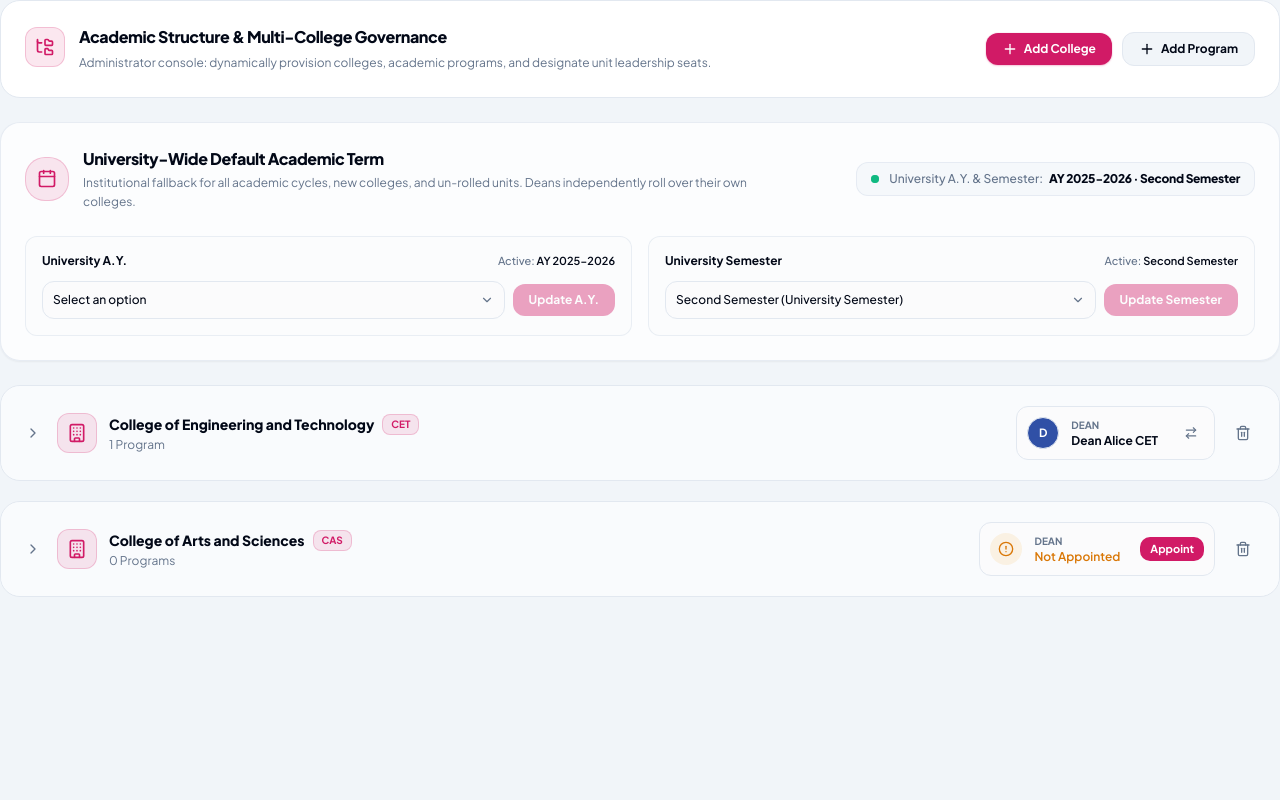
Test: AcademicStructureTab - Dean School Year Management › Available Years only renders on the college card the viewer leads as Dean
The width and height of the screenshot is (1280, 800).
Click the button with aria-label "Toggle programs for College of Engineering and Technology" at [77, 433], box top-left (1, 386), bottom-right (1279, 480)
(page scrolled)
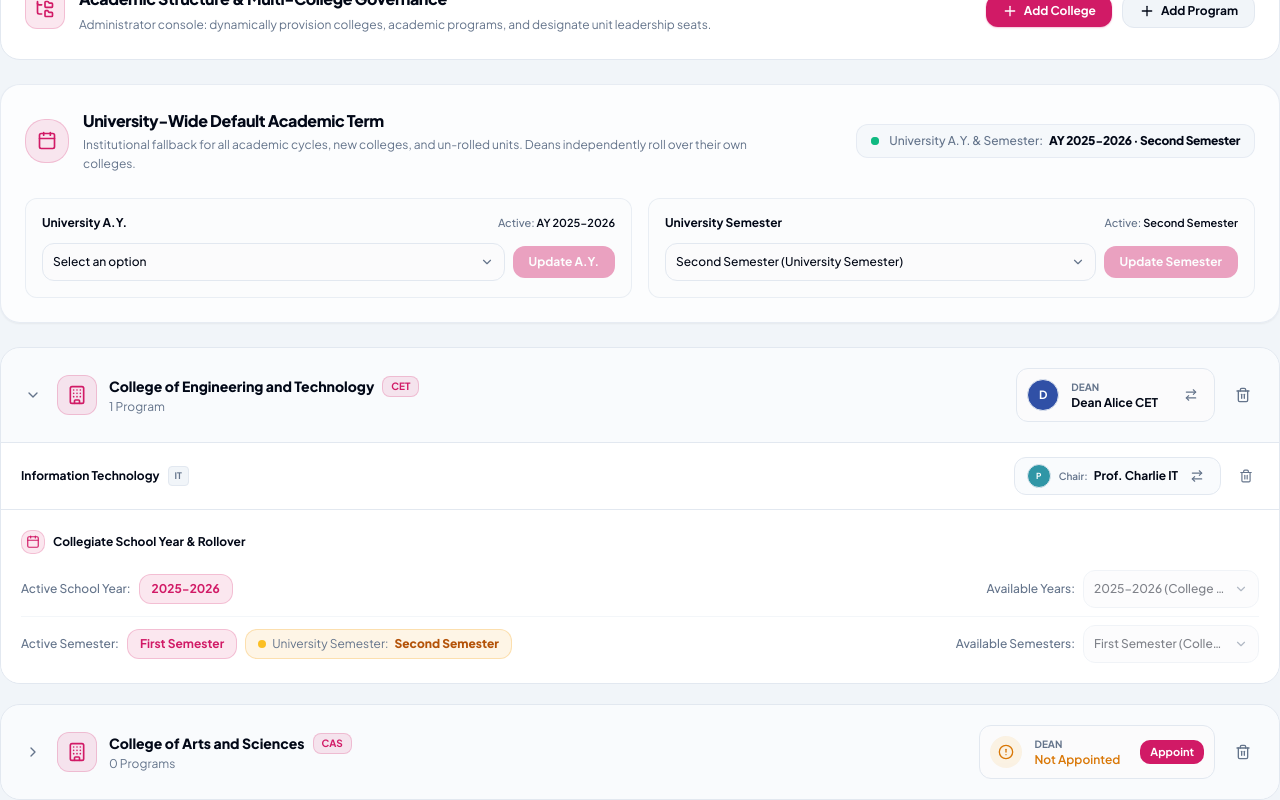
Click the button with aria-label "Toggle programs for College of Arts and Sciences" at [77, 752], box top-left (1, 705), bottom-right (1279, 799)
(page scrolled)
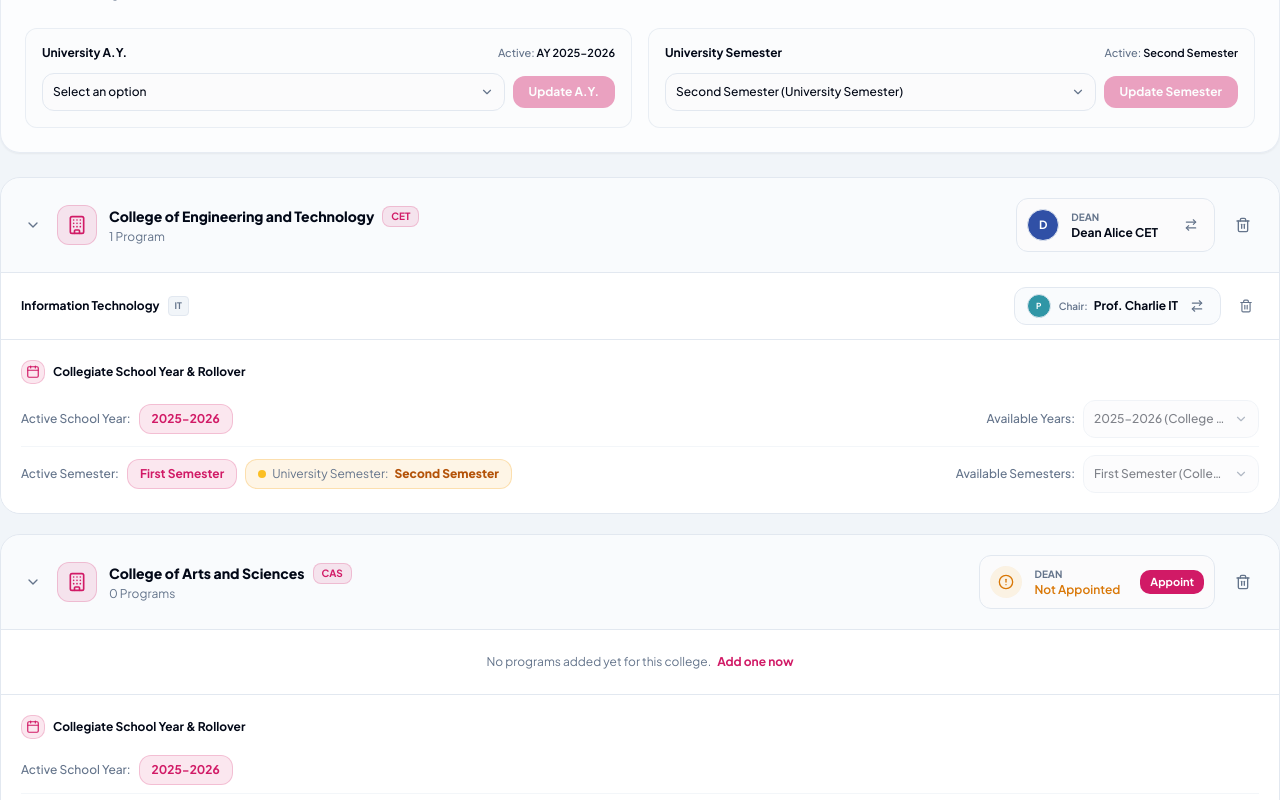
Now the text "roll over" is gone
Now the text "Available Years:" is shown once, box top-left (987, 411), bottom-right (1075, 427)
